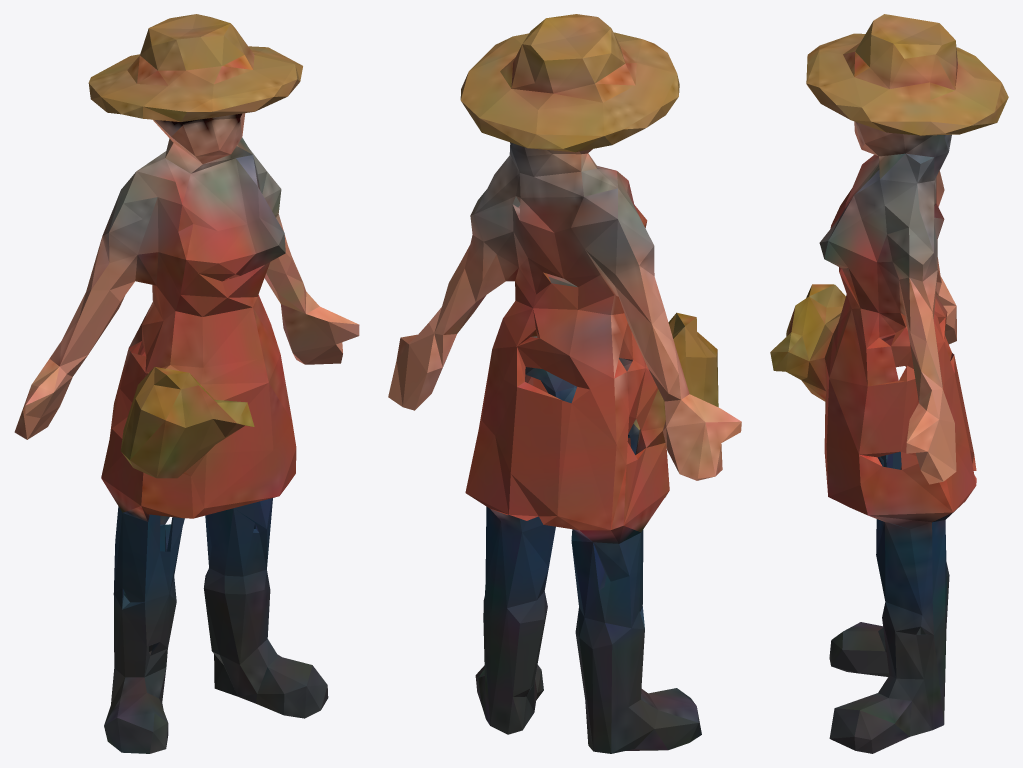
File: habitant-loin.glb
The picture shows the model from 3 angles, left to right: view 1: azimuth 30°, elevation 25°; view 2: azimuth 150°, elevation 25°; view 3: azimuth 270°, elevation 25°; orthographic projection. The views are drawn at different scales.
Visible parts, largest first — view 1: habitant; view 2: habitant; view 3: habitant.
Part boxes in pixels (box(x1,y1,x2,y2)): habitant: box(14, 14, 359, 753); habitant: box(388, 14, 741, 753); habitant: box(770, 14, 1008, 753).
Bounding box in the file's own units: 0.5122 × 1.01 × 0.3222.
Materials: 1 (1 with a texture image).
